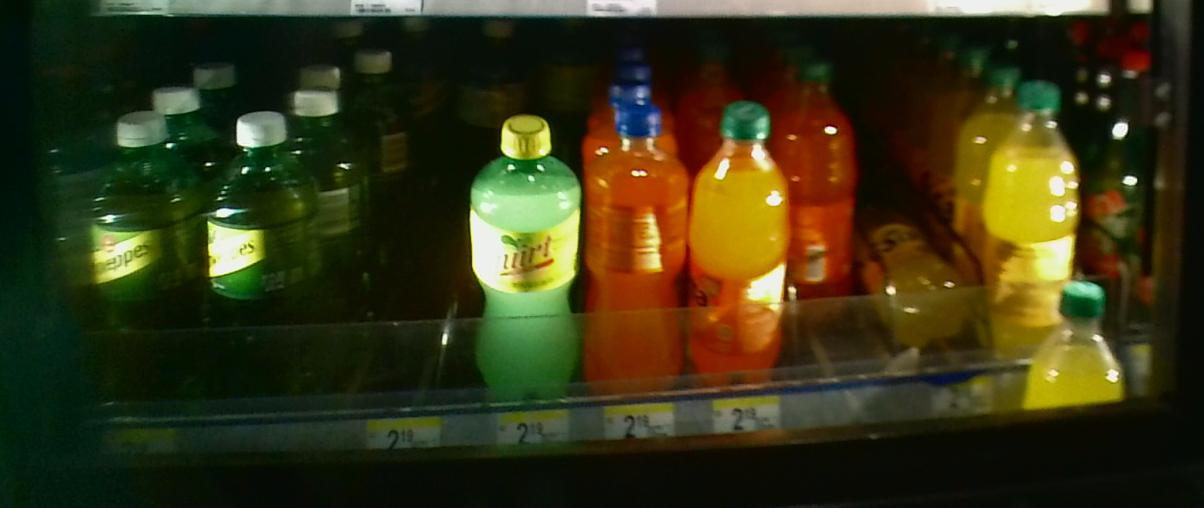bottle: (441, 90, 580, 410), (200, 96, 325, 409), (978, 76, 1101, 372), (80, 96, 194, 399), (589, 90, 685, 404), (695, 101, 795, 402), (787, 48, 864, 340), (867, 213, 973, 355)
